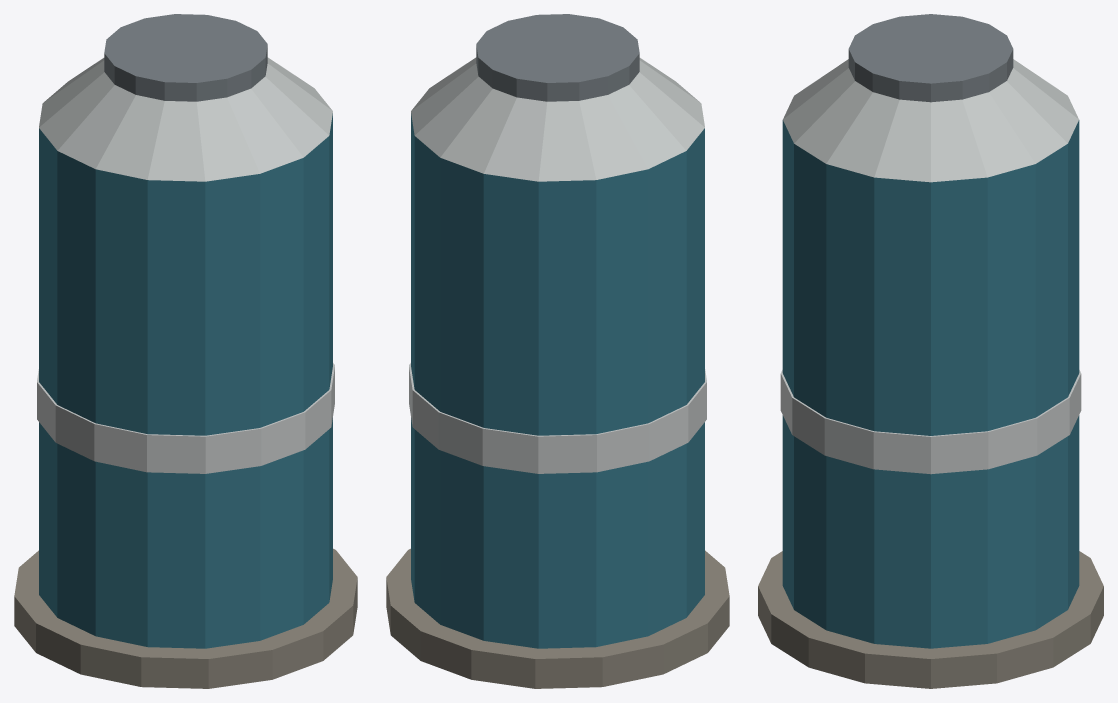
The model's file is w-tank-tall.glb.
3 views of the same model, side by side, from view 1: azimuth 30°, elevation 25°; view 2: azimuth 150°, elevation 25°; view 3: azimuth 270°, elevation 25° (orthographic).
Visible parts, largest first — view 1: w-tank-tall; view 2: w-tank-tall; view 3: w-tank-tall.
Boxes of the visible parts, x1,y1,x2,y2 form: w-tank-tall: [14, 14, 357, 688]; w-tank-tall: [386, 14, 729, 688]; w-tank-tall: [758, 14, 1103, 688].
Size of the model in its own units: 0.8401 by 1.52 by 0.8401.
